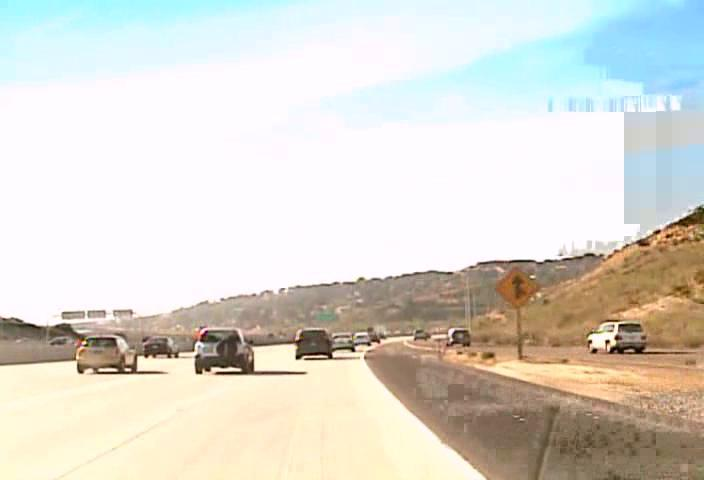merge: (493, 266, 538, 308)
